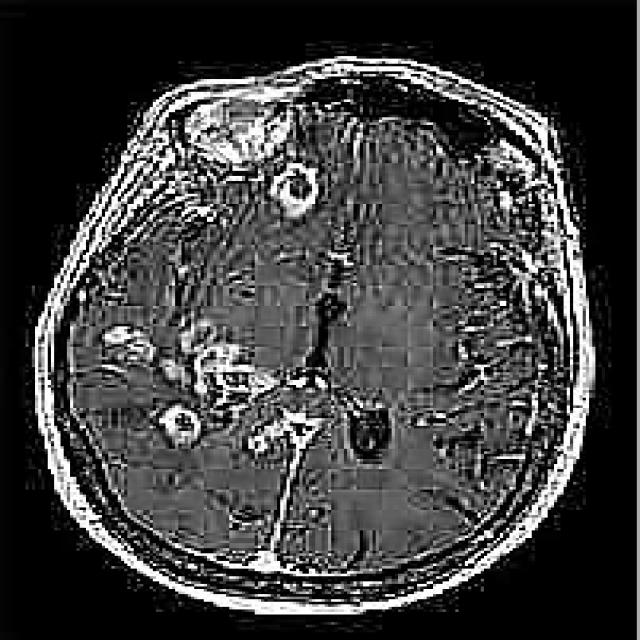Tumor-Cell: (106, 305, 310, 458), (190, 112, 360, 214)
